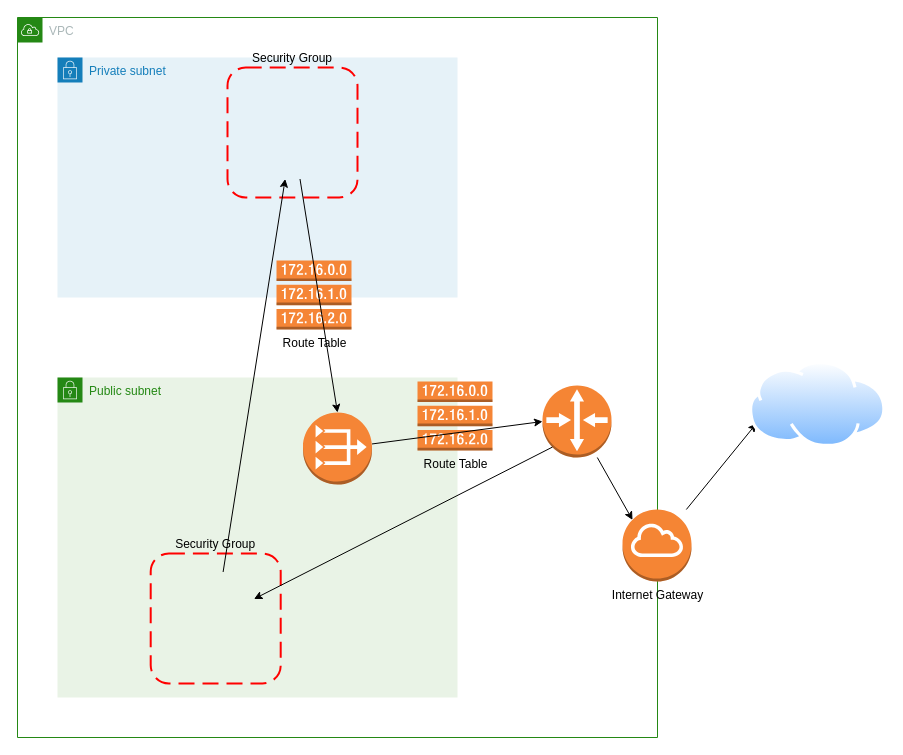
Some shapes in this 903 by 755 pixel diagram are drawn without their labels. The centre of each missing label's shape, as x and y in pixels:
"Internet" goes at [817,404].
"NAT Gateway" goes at [337,448].
"Router" goes at [577,421].
